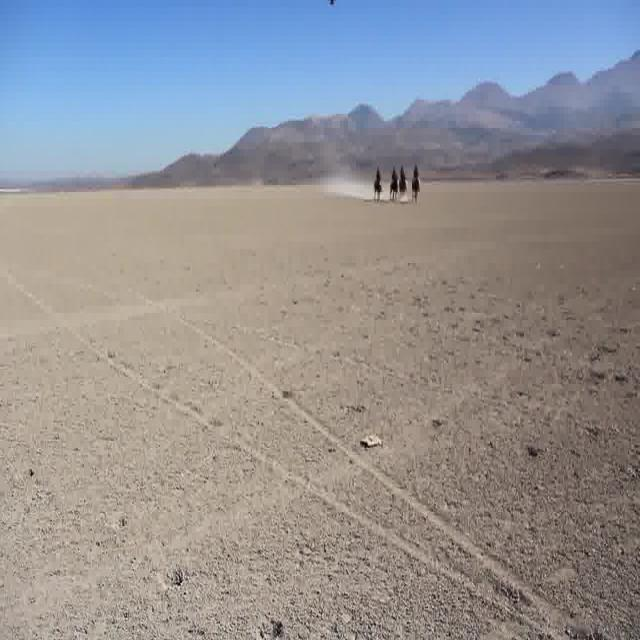drones: (318, 0, 344, 9)
